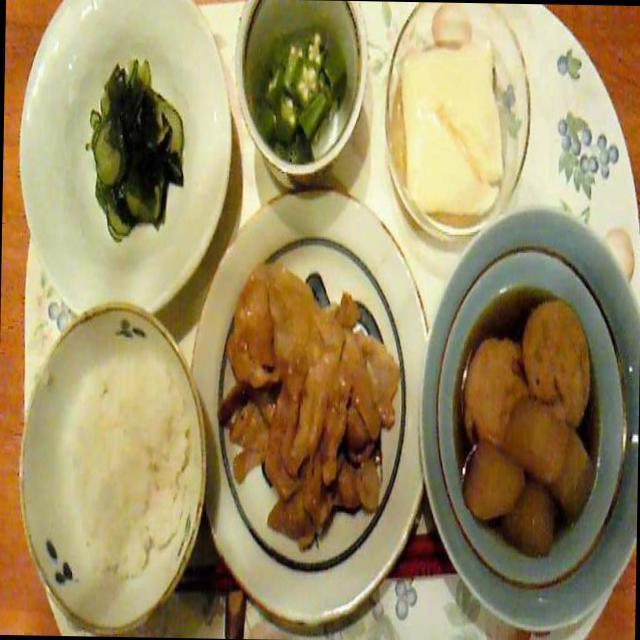Rice: (18, 328, 215, 582)
